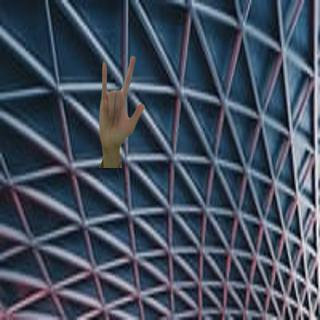ILY: (96, 53, 146, 151)
